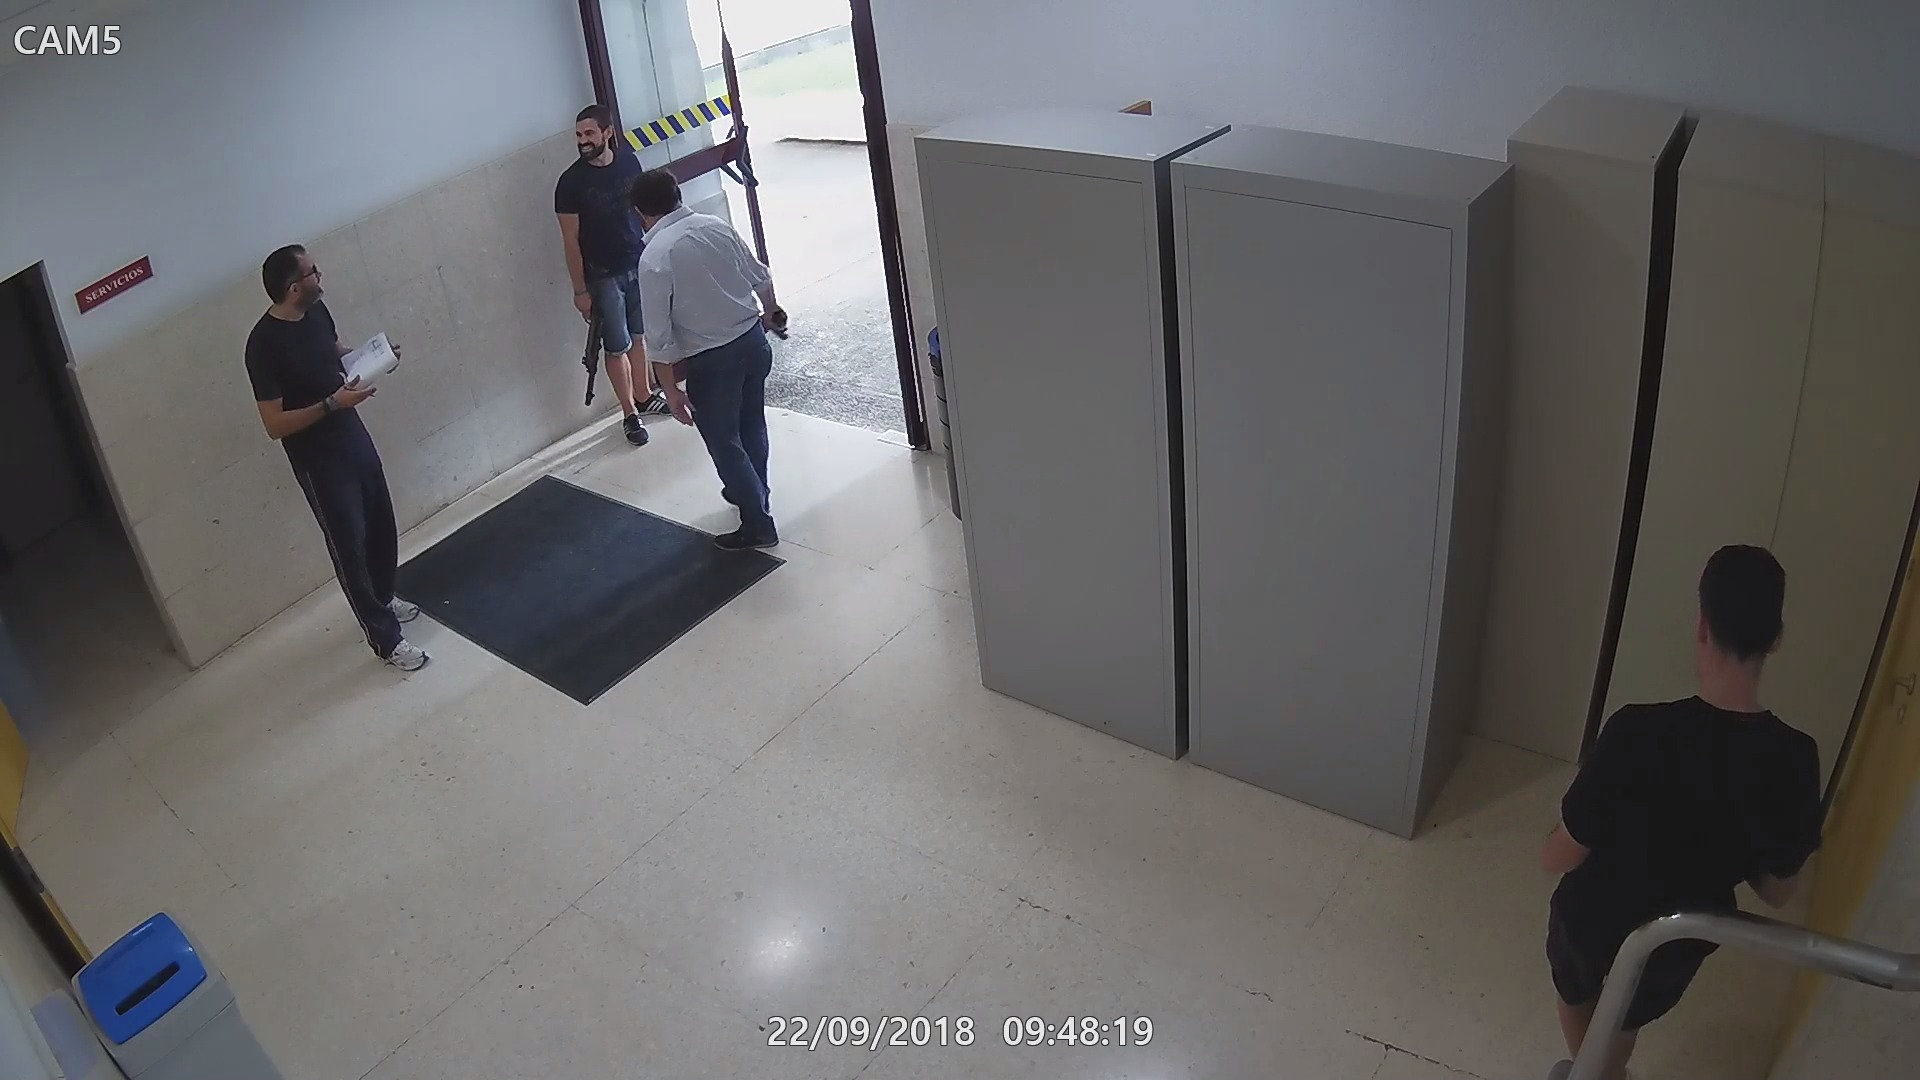Handgun: (761, 305, 796, 342)
Short_rifle: (571, 285, 609, 404)
